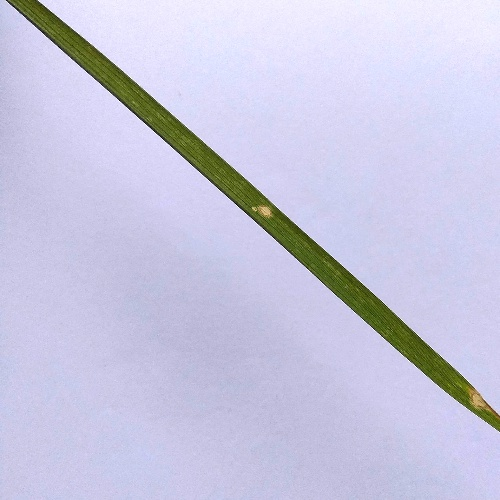Busuk Leher: (467, 380, 498, 416), (253, 198, 275, 221)
